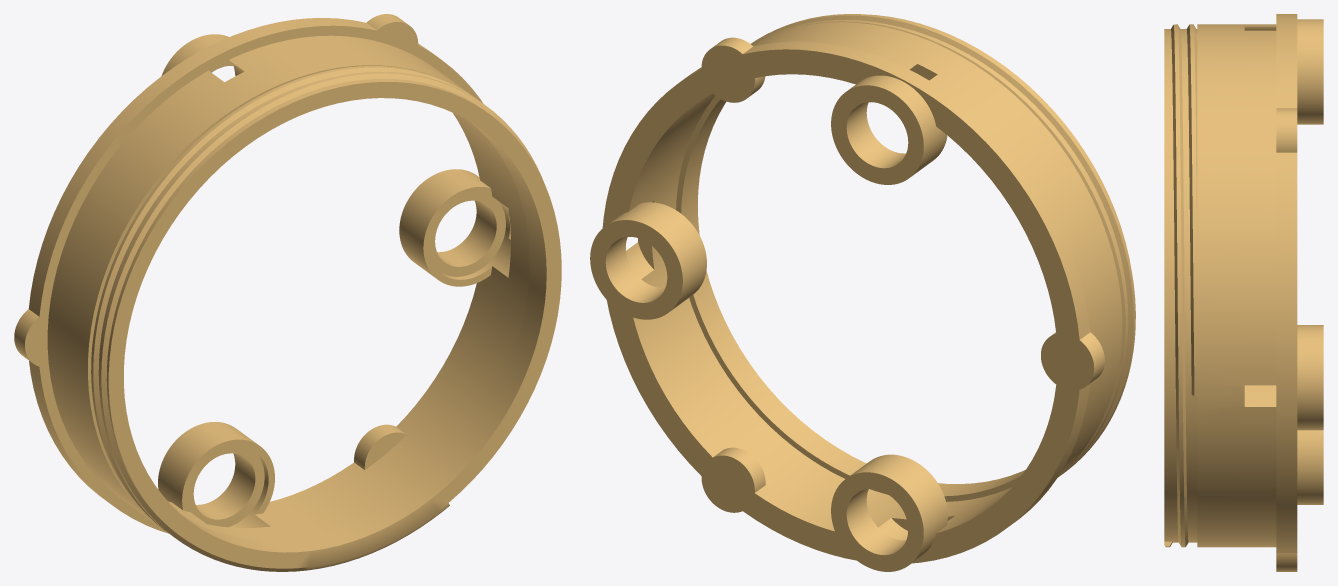
Rendered from Bearing_Carrier.glb.
3 renders of one model, left to right at view 1: azimuth 30°, elevation 25°; view 2: azimuth 150°, elevation 25°; view 3: azimuth 270°, elevation 25°, orthographic.
Parts seen in each view (by area): view 1: Bearing_Carrier_0; view 2: Bearing_Carrier_0; view 3: Bearing_Carrier_0.
Boxes of the visible parts, box(x1,y1,x2,y2) form: Bearing_Carrier_0: box(14, 14, 561, 571); Bearing_Carrier_0: box(590, 14, 1135, 571); Bearing_Carrier_0: box(1164, 14, 1323, 571).
Bounding box in the file's own units: 42.45 × 41.29 × 12.1.
